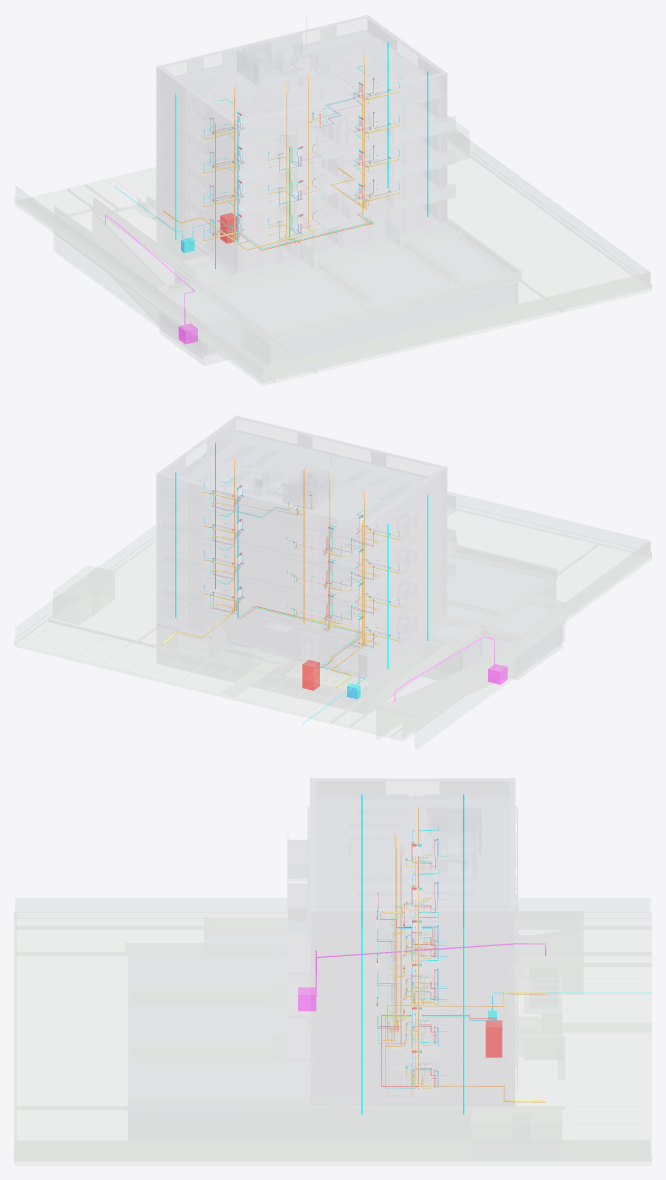
Rendered from impianti_acqua_scarichi.glb.
3 renders of one model, top to bottom at view 1: azimuth 30°, elevation 25°; view 2: azimuth 150°, elevation 25°; view 3: azimuth 270°, elevation 25°, orthographic. The views are drawn at different scales.
Parts seen in each view (by area): view 1: edificio/02_Involucro, edificio/00_Lotto, edificio/08_Copertura e impianti; view 2: edificio/02_Involucro, edificio/00_Lotto, edificio/08_Copertura e impianti, idrico/ACS/interrato/comuni/IDN-191; view 3: edificio/00_Lotto, edificio/02_Involucro, edificio/08_Copertura e impianti, idrico/ACS/interrato/comuni/IDN-191, scarichi/nere/verticale/comuni/SCS-165.
Part boxes in pixels (box(x1,y1,x2,y2)): edificio/02_Involucro: box(157, 15, 455, 271); edificio/00_Lotto: box(15, 130, 651, 382); edificio/08_Copertura e impianti: box(153, 31, 426, 219); edificio/02_Involucro: box(156, 416, 455, 669); edificio/00_Lotto: box(15, 505, 651, 737); edificio/08_Copertura e impianti: box(177, 432, 425, 678); idrico/ACS/interrato/comuni/IDN-191: box(302, 659, 319, 690); edificio/00_Lotto: box(14, 911, 651, 1161); edificio/02_Involucro: box(288, 778, 517, 1098); edificio/08_Copertura e impianti: box(317, 795, 519, 974); idrico/ACS/interrato/comuni/IDN-191: box(485, 1020, 502, 1057); scarichi/nere/verticale/comuni/SCS-165: box(395, 835, 397, 1031).
Bounding box in the file's own units: 38 × 21.75 × 42.
